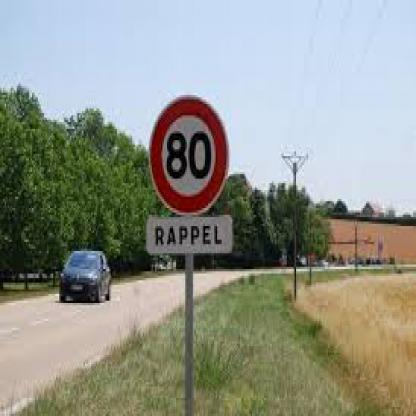Speed Limit 80: (152, 94, 223, 214)
